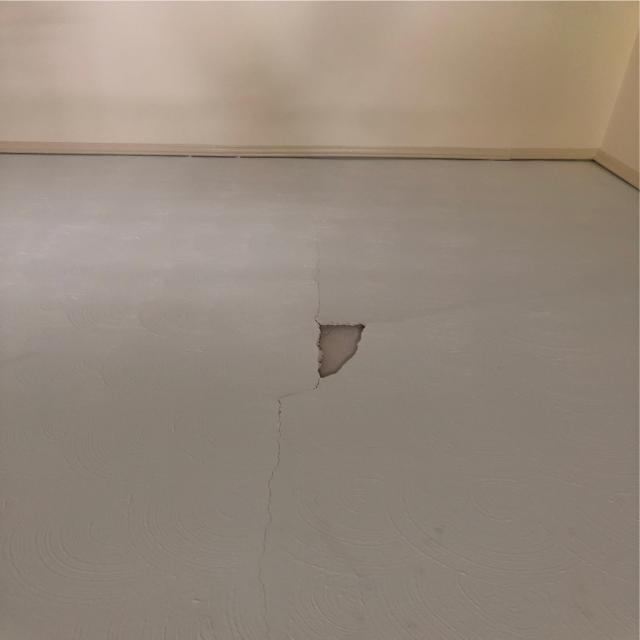Crack: (302, 217, 374, 392), (261, 390, 303, 627)
